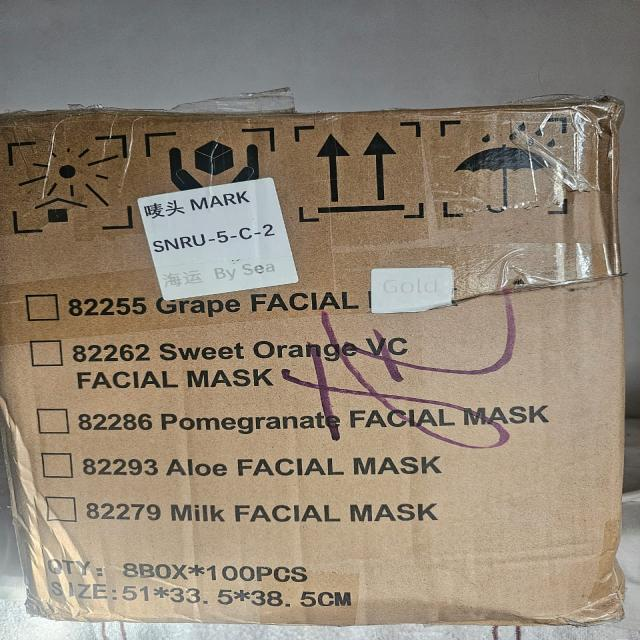carton_box: (0, 108, 640, 640)
export_mark_label: (135, 186, 317, 297)
handle_with_care_label: (134, 121, 294, 226)
keep_dry_label: (438, 119, 572, 215)
protect_from_heat_label: (2, 130, 138, 236)
this_side_up_label: (290, 123, 431, 230)
